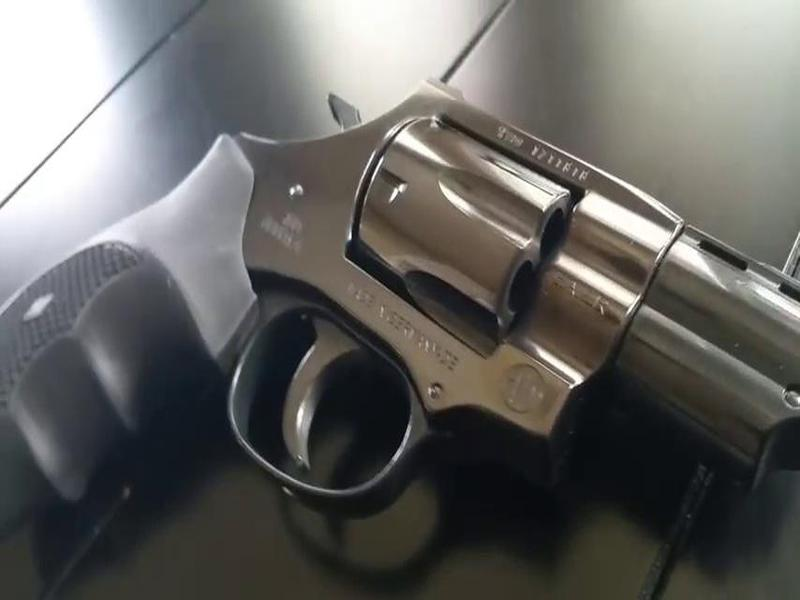Revolver: (37, 64, 767, 542)
